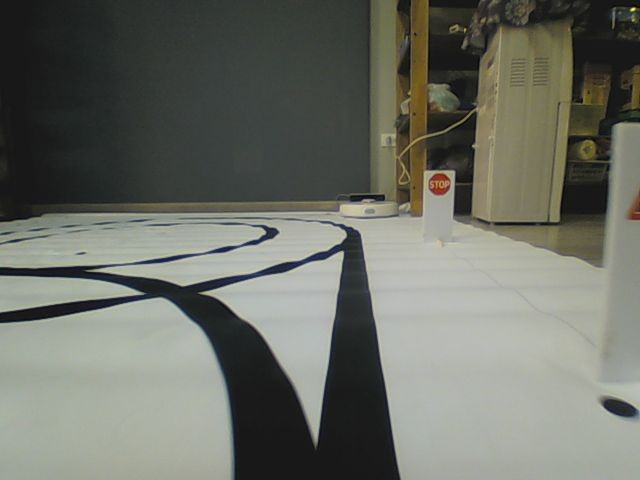Stop: (428, 172, 451, 197)
